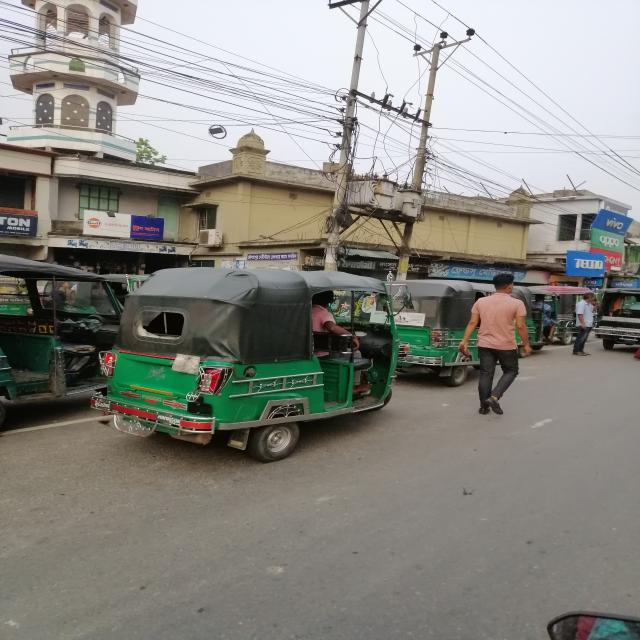CNG: (90, 269, 415, 470)
